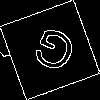G: (25, 25, 80, 83)
